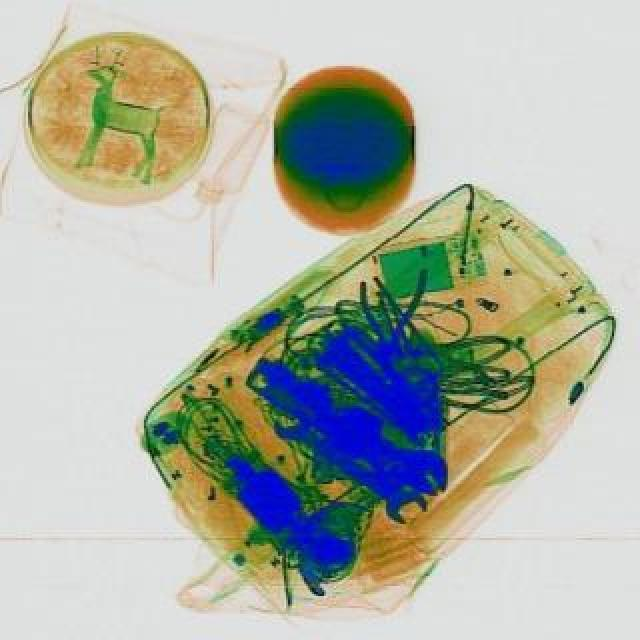scissors: (264, 404, 432, 536)
wrench: (356, 272, 424, 364)
